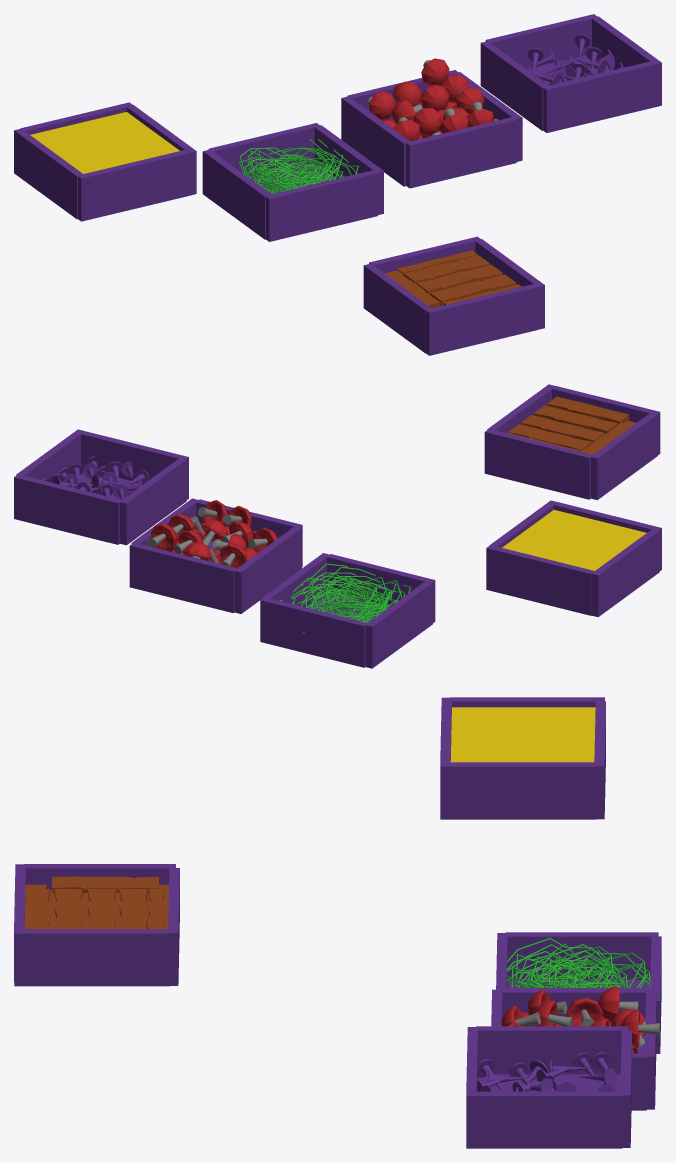
File: kasalar.fbx
The picture shows the model from 3 angles, top to bottom: view 1: azimuth 30°, elevation 25°; view 2: azimuth 150°, elevation 25°; view 3: azimuth 270°, elevation 25°; orthographic projection. The views are drawn at different scales.
Parts seen in each view (by area): view 1: Cube, Cube.003, Cube.009, Cube.004, Cube.001, Cube.002, Spiral.001, Cube.011, Cube.012, Cube.013, Spiral.004, Spiral.003 (+3 smaller); view 2: Cube.003, Cube, Cube.009, Cube.004, Cube.001, Cube.002, Spiral.003, Spiral.002, Spiral.001, Cube.011, Cube.012, Cube.010 (+4 smaller); view 3: Cube.003, Cube.004, Cube.001, Cube, Cube.002, Cube.009, Spiral.003, Cube.015, Spiral.001, Cube.013, Cube.011, Cube.012 (+3 smaller).
Boxes of the visible parts, x1,y1,x2,y2 form: Cube: [341, 58, 522, 188]; Cube.003: [480, 14, 661, 132]; Cube.009: [202, 123, 383, 241]; Cube.004: [363, 236, 544, 355]; Cube.001: [14, 102, 196, 221]; Cube.002: [30, 112, 179, 173]; Spiral.001: [239, 139, 334, 189]; Cube.011: [430, 274, 516, 304]; Cube.012: [416, 264, 502, 293]; Cube.013: [403, 255, 489, 283]; Spiral.004: [247, 139, 343, 187]; Spiral.003: [243, 150, 339, 194]; Cube.003: [14, 429, 188, 545]; Cube: [129, 498, 302, 613]; Cube.009: [260, 553, 435, 668]; Cube.004: [484, 384, 660, 500]; Cube.001: [486, 500, 661, 617]; Cube.002: [502, 510, 646, 570]; Spiral.003: [312, 567, 411, 619]; Spiral.002: [297, 563, 396, 615]; Spiral.001: [291, 575, 389, 620]; Cube.011: [533, 405, 617, 433]; Cube.012: [520, 415, 604, 442]; Cube.010: [546, 396, 629, 424]; Cube.003: [466, 1026, 631, 1148]; Cube.004: [14, 864, 179, 986]; Cube.001: [440, 697, 605, 819]; Cube: [491, 986, 659, 1110]; Cube.002: [450, 707, 595, 762]; Cube.009: [496, 932, 661, 1053]; Spiral.003: [507, 938, 622, 987]; Cube.015: [52, 876, 158, 893]; Spiral.001: [536, 944, 649, 987]; Cube.013: [119, 889, 147, 929]; Cube.011: [54, 889, 82, 929]; Cube.012: [88, 889, 115, 929].
Size of the model in its own units: 574 by 122 by 443.
